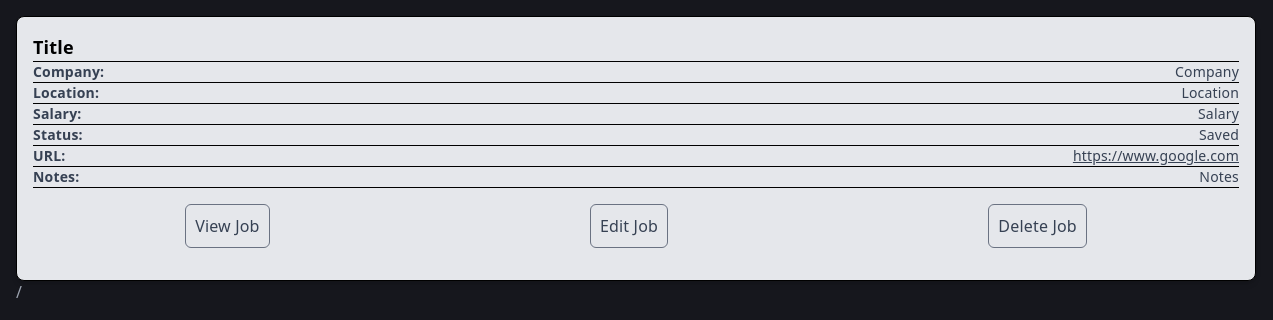
JobCard › renders the job card › navigates to the job details page when the view job button is clicked
Click the link "View Job" at x=227, y=226, box [185,204,270,248]
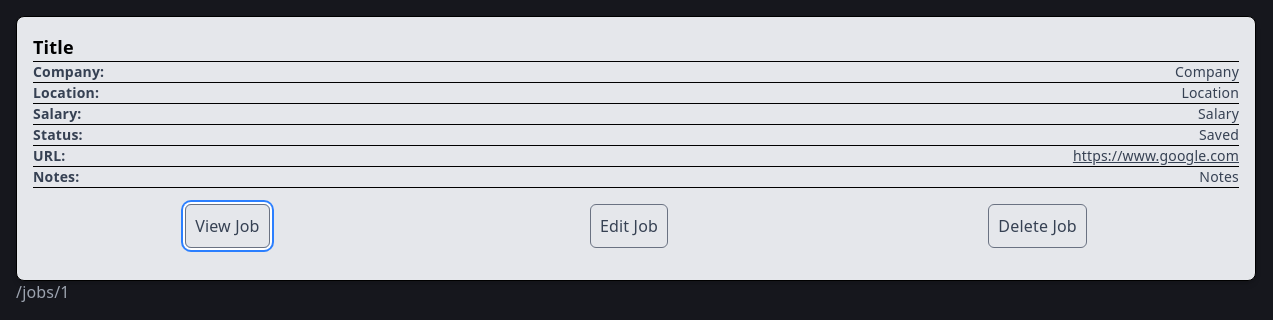
Expected: the text with test id "location-display" reads "/jobs/1", [16,281,70,303]
